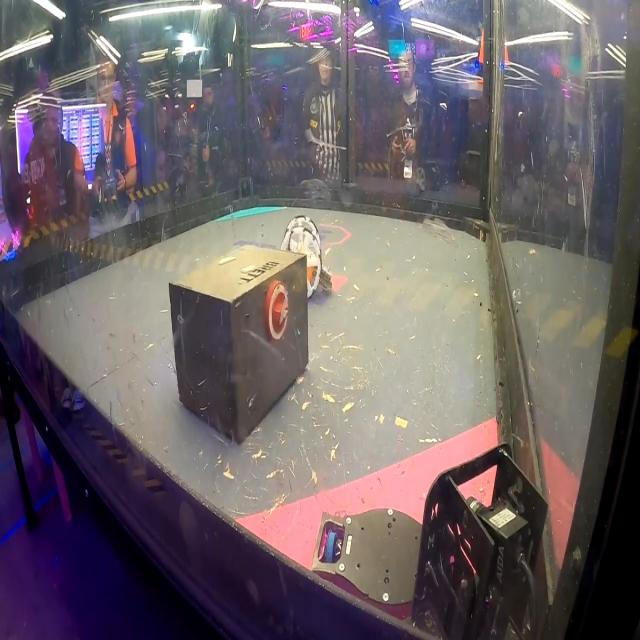brick: (170, 238, 310, 434)
